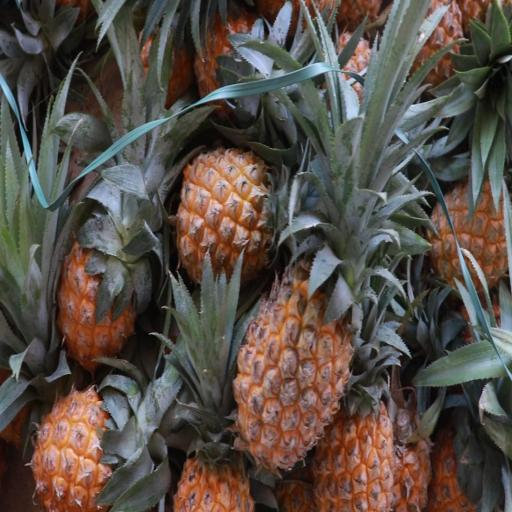Pineapple - v8 v1: (226, 237, 372, 480), (171, 136, 310, 296), (54, 203, 162, 375), (24, 374, 157, 512), (170, 366, 260, 512), (422, 164, 512, 308), (309, 367, 398, 512), (190, 0, 292, 126)
